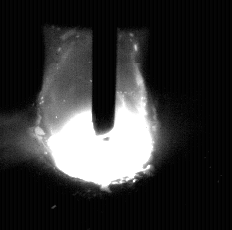arame: (93, 0, 117, 142)
poca: (36, 0, 157, 230)
